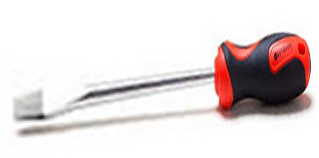Screwdriver: (11, 23, 316, 131)
